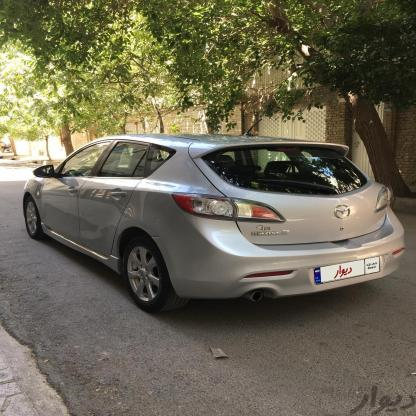Car: (22, 126, 416, 309)
